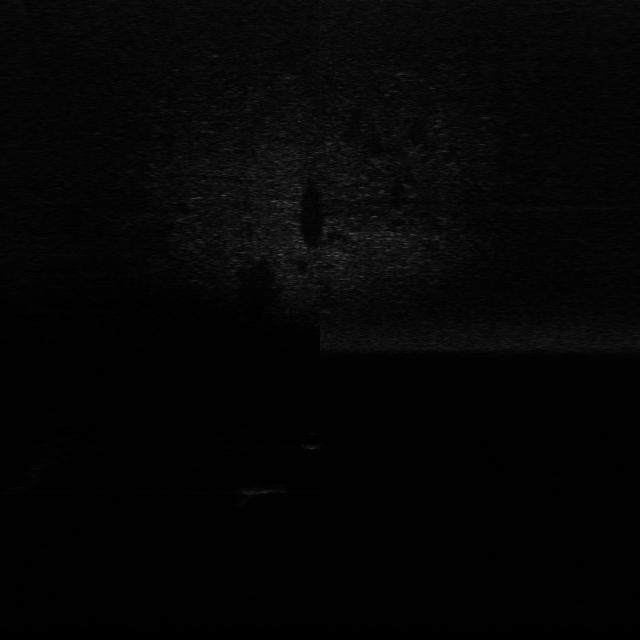ball: (300, 426, 330, 448)
square cage: (238, 480, 288, 500)
